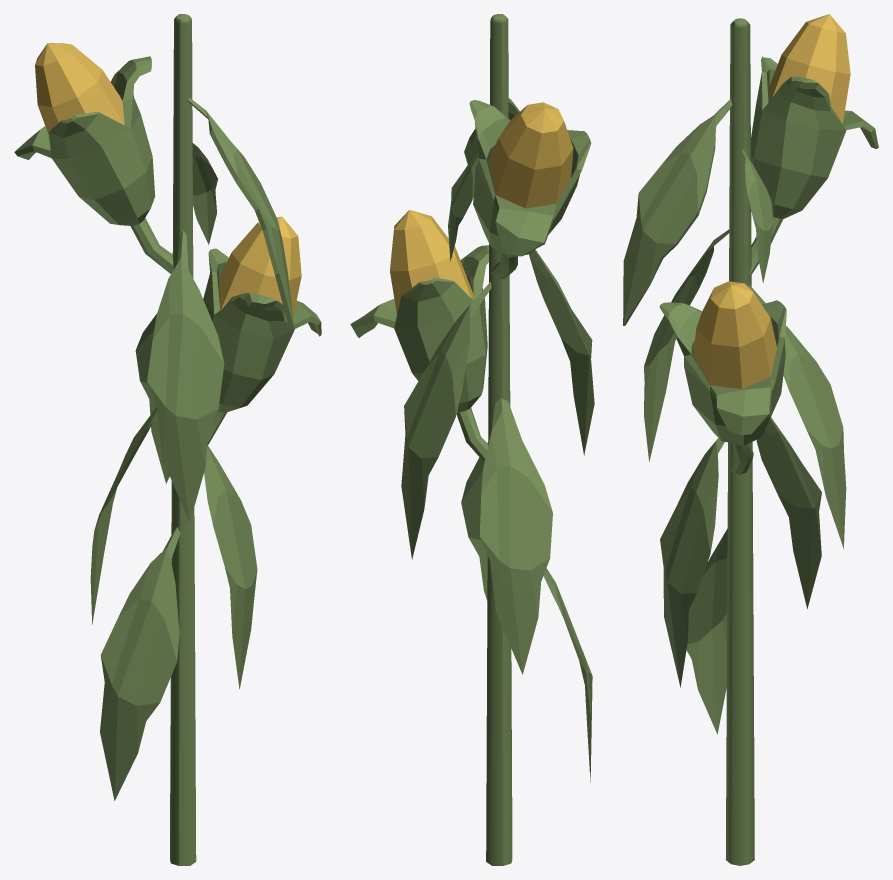
File: mısır.fbx
3 renders of one model, left to right at view 1: azimuth 30°, elevation 25°; view 2: azimuth 150°, elevation 25°; view 3: azimuth 270°, elevation 25°, orthographic.
Visible parts, largest first — view 1: Corn1_P; view 2: Corn1_P; view 3: Corn1_P.
Part boxes in pixels (x1,y1,x2,y2): Corn1_P: (14, 14, 321, 865); Corn1_P: (350, 14, 594, 865); Corn1_P: (623, 14, 878, 865).
Size of the model in its own units: 60.6 by 199 by 54.83.
1 material, 1 textured.
